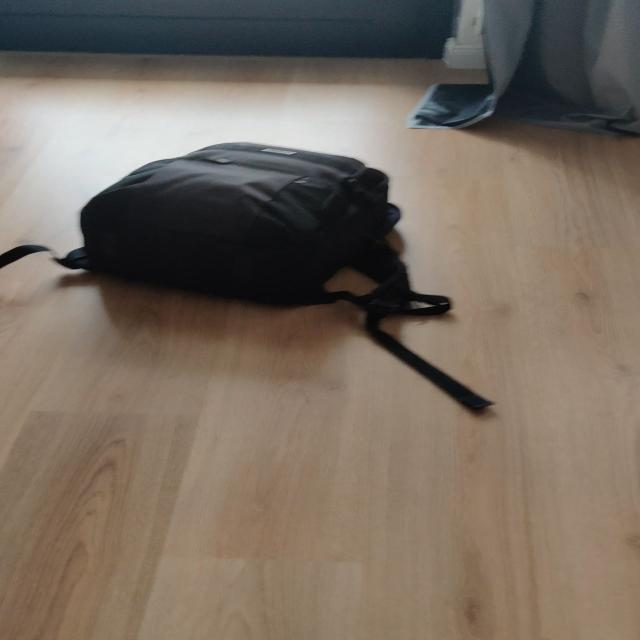backpack: (52, 138, 416, 310)
